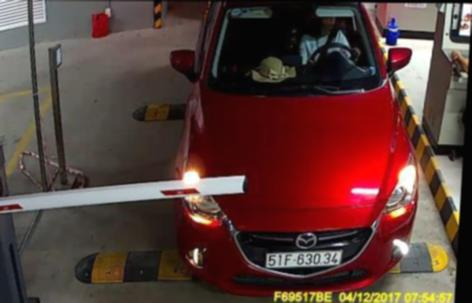License_Plate: (262, 246, 345, 270)
